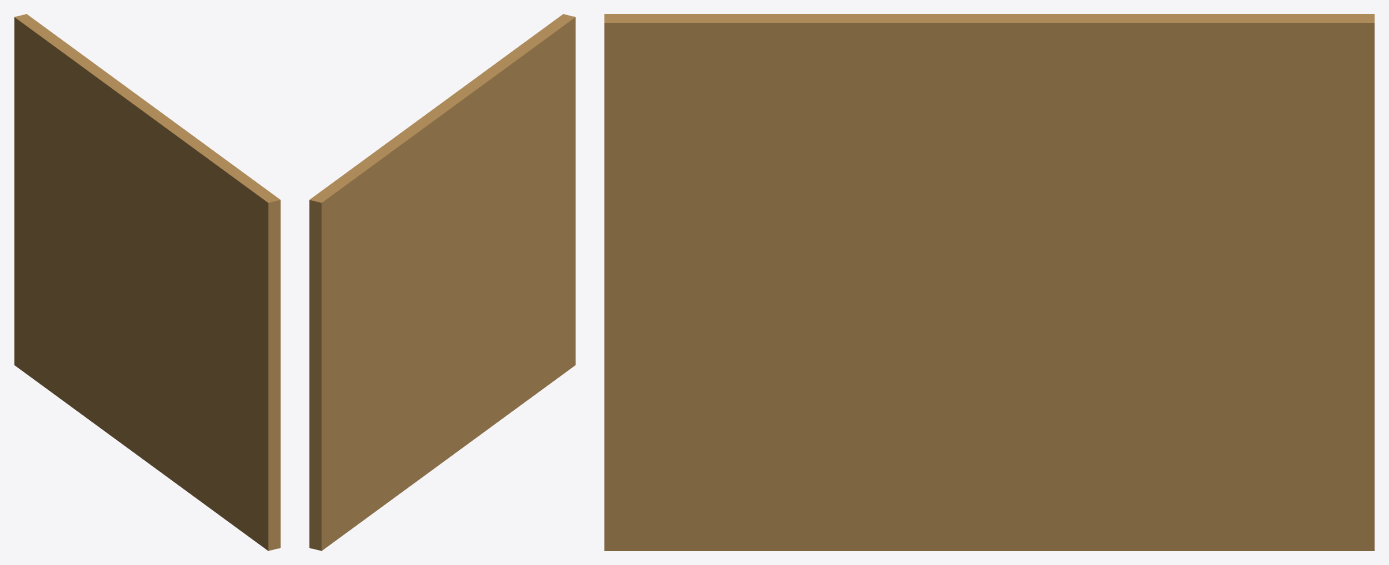
The picture shows the model from 3 angles, left to right: view 1: azimuth 30°, elevation 25°; view 2: azimuth 150°, elevation 25°; view 3: azimuth 270°, elevation 25°; orthographic projection. The views are drawn at different scales.
Parts seen in each view (by area): view 1: FF-W017; view 2: FF-W017; view 3: FF-W017.
Boxes of the visible parts, x1=… form: FF-W017: x1=14, y1=14, x2=280, y2=550; FF-W017: x1=309, y1=14, x2=575, y2=550; FF-W017: x1=604, y1=14, x2=1374, y2=550.
Bounding box in the file's own units: 0.09 × 2.42 × 3.2.
